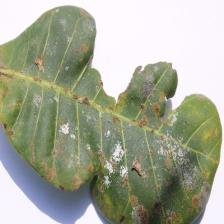red rust: (0, 4, 223, 224)
